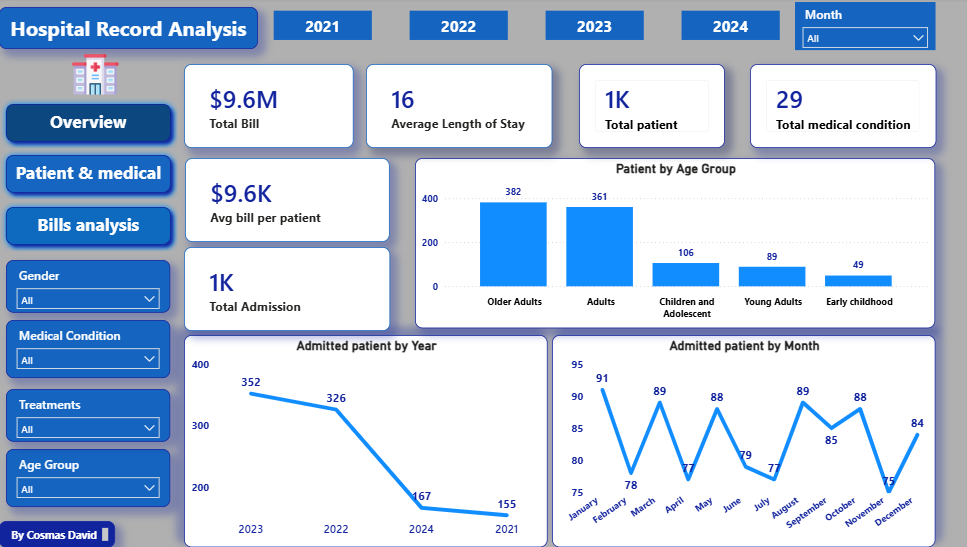

What the dashboard file says about the page in this screenshot:
{"tool":"powerbi","page":{"name":"overview","canvas":[1280,720],"ordinal":0},"visuals":[{"type":"lineChart","title":"Admitted patient by Year","fields":{"Category":["Sheet1.Year"],"Y":["Sheet1.Total patient"]},"box":[242.2,441.8,476.2,278],"z":0},{"type":"lineChart","title":"Admitted patient by Month ","fields":{"Category":["Sheet1.Month Name"],"Y":["Sheet1.Total patient"]},"box":[724,441.8,502.4,278],"z":1000},{"type":"textbox","box":[0,11.7,338.6,55.1],"z":2000,"group":"g2"},{"type":"columnChart","title":"Patient by Age Group","fields":{"Y":["Sheet1.Total patient"],"Category":["Sheet1.Age Group"]},"box":[545,209.2,681.3,223],"z":2000},{"type":"advancedSlicerVisual","fields":{"Values":["Sheet1.Year"]},"box":[355.1,12.4,673,48.2],"z":3000,"group":"g2"},{"type":"actionButton","box":[0,129.4,234,67.4],"z":3000},{"type":"slicer","fields":{"Values":["Sheet1.Month Name"]},"box":[1041.9,5.5,184.4,63.3],"z":4000,"group":"g2"},{"type":"group","id":"g1","title":"Group 1","box":[242.2,86.7,984.1,110.1],"z":4000},{"type":"cardVisual","fields":{"Data":["Sum(Sheet1.Bill Amount($))"]},"box":[242.2,86.7,221.6,110.1],"z":5000,"group":"g1"},{"type":"cardVisual","fields":{"Data":["Sheet1.Avg bill per patient"]},"box":[243.6,209.2,268.4,110.1],"z":5000},{"type":"cardVisual","fields":{"Data":["Avg(Sheet1.Length of Stay)"]},"box":[480.3,86.7,243.6,110.1],"z":6000,"group":"g1"},{"type":"cardVisual","fields":{"Data":["Sheet1.Total Admission"]},"box":[242.2,326.2,269.8,110.1],"z":6000},{"type":"group","id":"g2","title":"Group 2","box":[0,5.5,1226.3,63.3],"z":7000},{"type":"image","box":[61.9,68.8,129.4,60.6],"z":8000},{"type":"cardVisual","fields":{"Data":["Sheet1.Total patient"]},"box":[759.7,86.7,191.3,110.1],"z":9000,"group":"g1"},{"type":"textbox","box":[0,684.7,146,35.3],"z":9000},{"type":"actionButton","box":[0,196.8,234,67.4],"z":10000},{"type":"actionButton","box":[0,264.3,234,67.4],"z":11000},{"type":"slicer","fields":{"Values":["Sheet1.Gender"]},"box":[9.6,342.7,214.7,68.8],"z":12000},{"type":"cardVisual","fields":{"Data":["Sheet1.Total medical condition"]},"box":[982.7,86.7,243.6,110.1],"z":13000,"group":"g1"},{"type":"slicer","fields":{"Values":["Sheet1.Medical Condition"]},"box":[9.6,421.2,214.7,75.7],"z":13000},{"type":"slicer","fields":{"Values":["Sheet1.Age Group"]},"box":[9.6,590.5,214.7,75.7],"z":14000},{"type":"slicer","fields":{"Values":["Sheet1.Treatments"]},"box":[9.6,512,214.7,68.8],"z":15000}]}

Visuals, with their boxes in screenshot pixels (x1, y1, x2, y2), scaled from the page's 1280x720 canvas onto the 967x547 screenshot:
"Admitted patient by Year" lineChart: <region>183, 336, 543, 546</region>
"Admitted patient by Month " lineChart: <region>547, 336, 927, 546</region>
textbox: <region>0, 9, 256, 51</region>
"Patient by Age Group" columnChart: <region>412, 159, 926, 328</region>
advancedSlicerVisual - Sheet1.Year: <region>268, 9, 777, 46</region>
actionButton: <region>0, 98, 177, 150</region>
slicer - Sheet1.Month Name: <region>787, 4, 926, 52</region>
"Group 1" group: <region>183, 66, 926, 150</region>
cardVisual - Sum(Sheet1.Bill Amount($)): <region>183, 66, 350, 150</region>
cardVisual - Sheet1.Avg bill per patient: <region>184, 159, 387, 243</region>
cardVisual - Avg(Sheet1.Length of Stay): <region>363, 66, 547, 150</region>
cardVisual - Sheet1.Total Admission: <region>183, 248, 387, 331</region>
"Group 2" group: <region>0, 4, 926, 52</region>
image: <region>47, 52, 145, 98</region>
cardVisual - Sheet1.Total patient: <region>574, 66, 718, 150</region>
textbox: <region>0, 520, 110, 546</region>
actionButton: <region>0, 150, 177, 201</region>
actionButton: <region>0, 201, 177, 252</region>
slicer - Sheet1.Gender: <region>7, 260, 169, 313</region>
cardVisual - Sheet1.Total medical condition: <region>742, 66, 926, 150</region>
slicer - Sheet1.Medical Condition: <region>7, 320, 169, 378</region>
slicer - Sheet1.Age Group: <region>7, 449, 169, 506</region>
slicer - Sheet1.Treatments: <region>7, 389, 169, 441</region>
